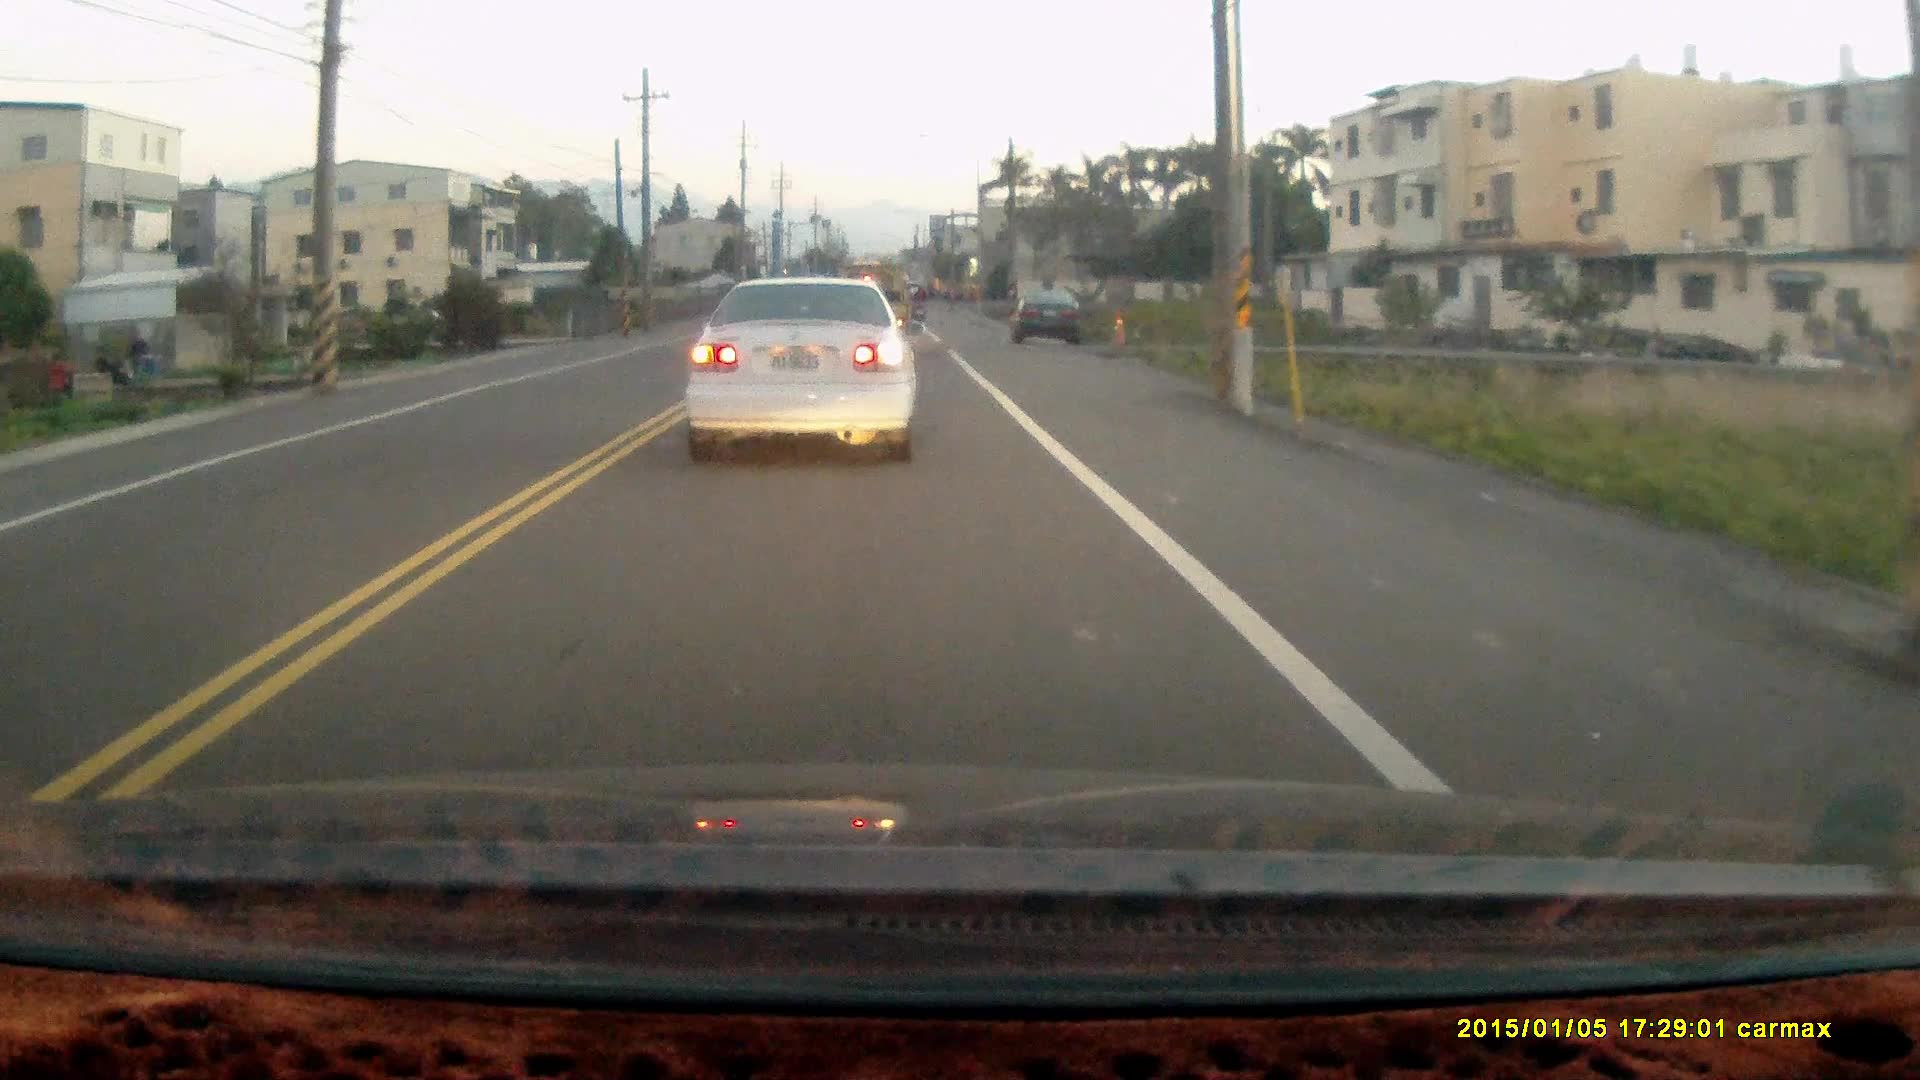pedestrian: (41, 348, 71, 413)
vehicle: (685, 273, 923, 466), (1014, 288, 1085, 347)
